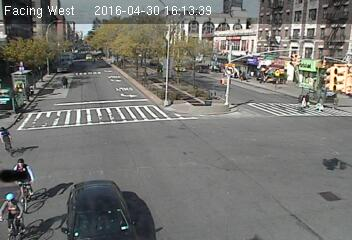neg: (5, 151, 47, 207), (3, 193, 35, 235), (243, 111, 269, 146), (51, 173, 74, 204), (153, 90, 176, 120), (112, 28, 134, 57), (13, 72, 35, 101), (96, 181, 117, 208), (195, 95, 214, 121), (318, 151, 336, 176), (59, 68, 77, 92), (166, 39, 184, 62), (318, 189, 335, 212), (87, 83, 103, 104), (140, 90, 155, 110), (59, 32, 73, 51)
pos: (298, 94, 313, 113)
